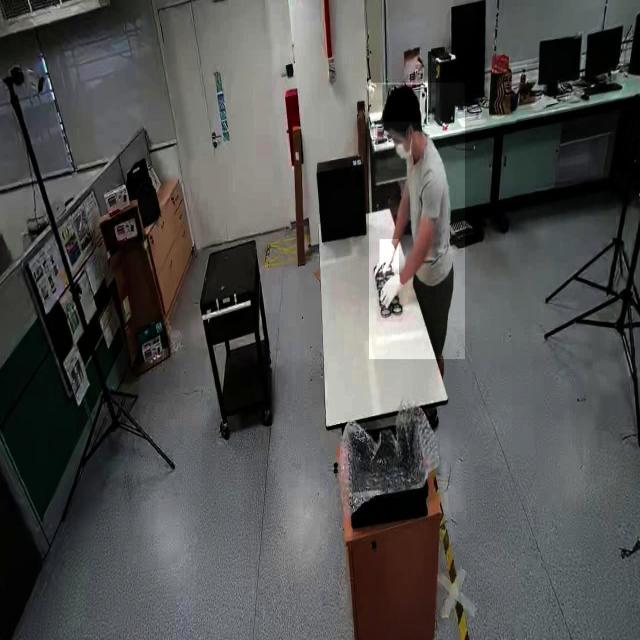face_mask: (387, 131, 413, 169)
hand_glove: (377, 273, 403, 323), (379, 239, 399, 285)
head_nohelmet: (382, 84, 420, 122)
person: (369, 83, 465, 360)
